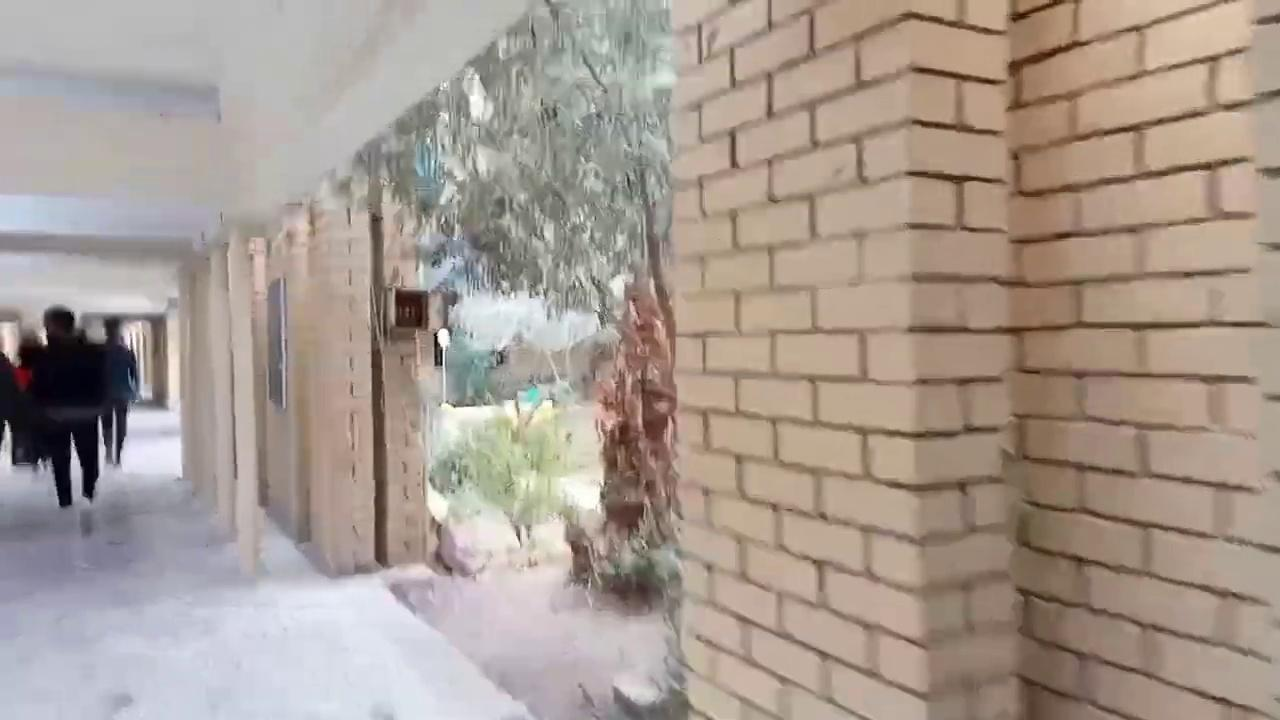person: (23, 304, 109, 507), (98, 316, 138, 466)
tree: (304, 0, 683, 618), (560, 267, 683, 611), (426, 394, 577, 567)
